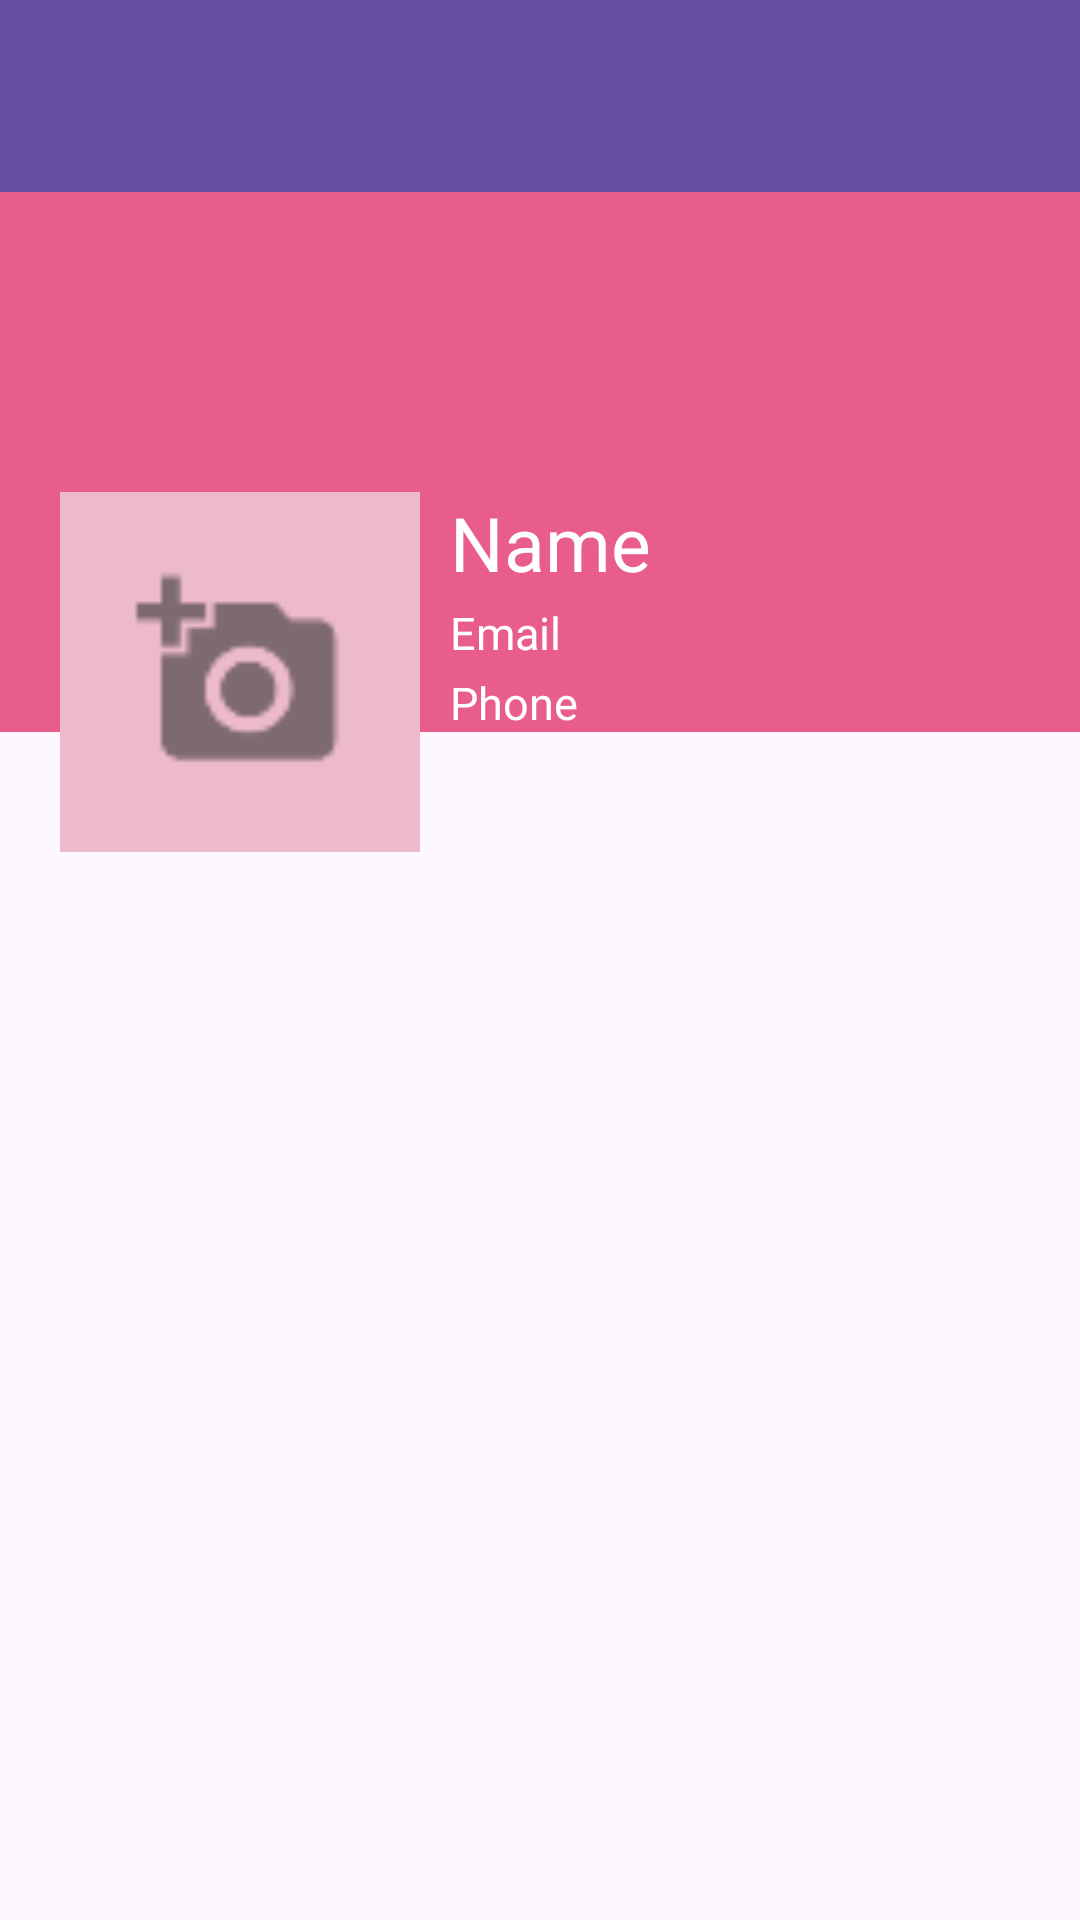

Where to tap for icons on this 1080*1920 app screen, as [x,y]:
add: [240,672]
